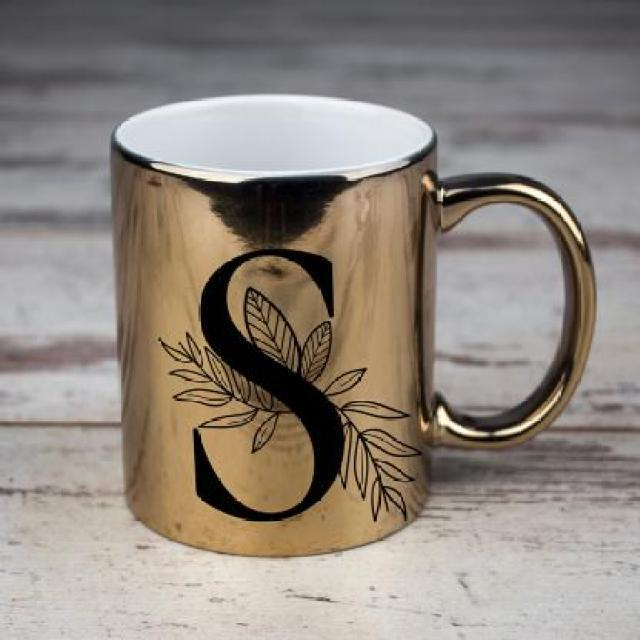taza: (99, 76, 603, 570)
